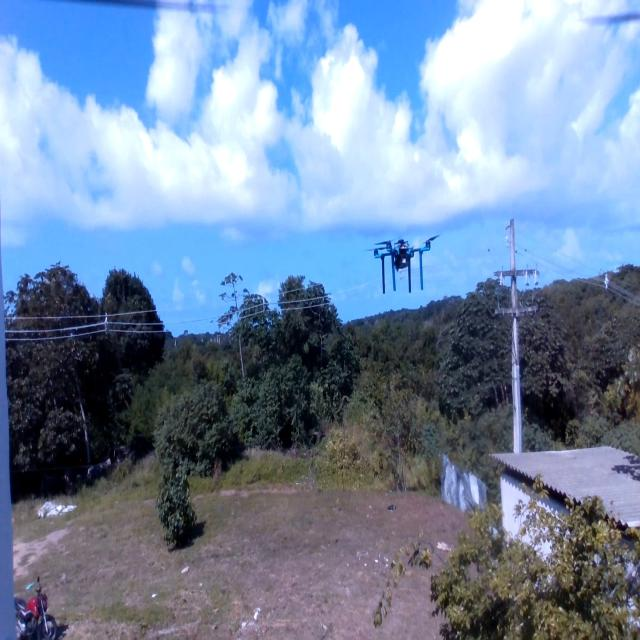-uav-: (352, 223, 448, 310)
